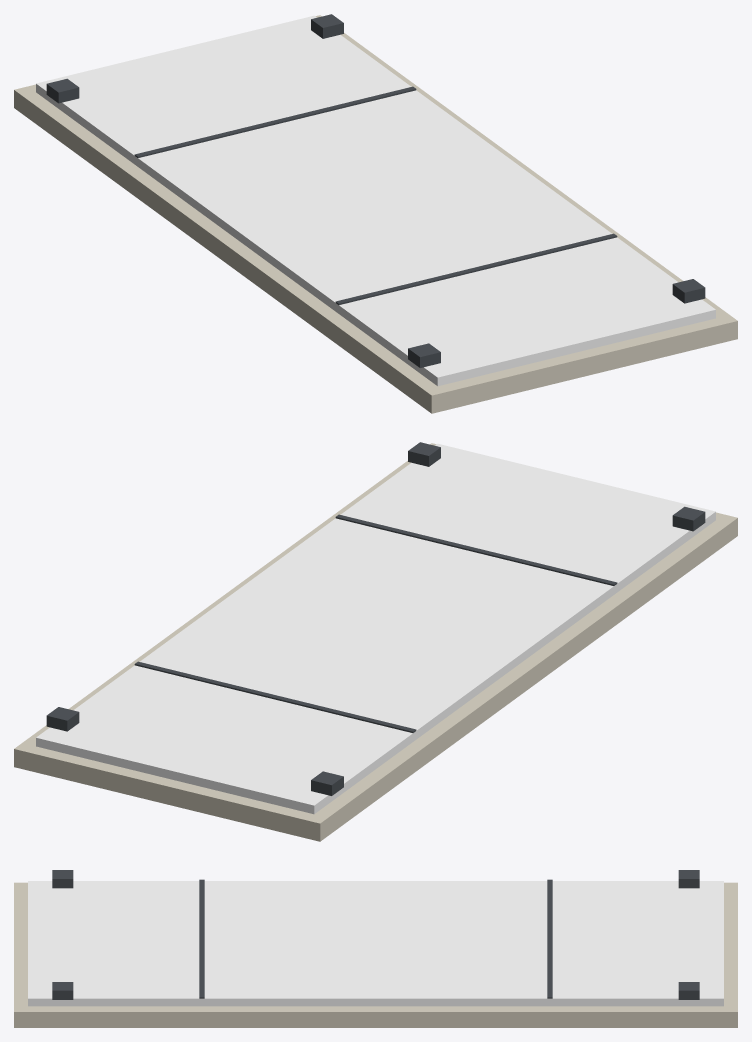
Rendered from road.bridge-deck.glb.
3 renders of one model, top to bottom at view 1: azimuth 30°, elevation 25°; view 2: azimuth 150°, elevation 25°; view 3: azimuth 270°, elevation 25°, orthographic. The views are drawn at different scales.
Parts seen in each view (by area): view 1: road.bridge-deck; view 2: road.bridge-deck; view 3: road.bridge-deck.
Boxes of the visible parts, x1,y1,x2,y2 form: road.bridge-deck: [14, 14, 737, 413]; road.bridge-deck: [14, 442, 737, 841]; road.bridge-deck: [14, 870, 737, 1027].
Size of the model in its own units: 4.4 by 0.52 by 10.4.
